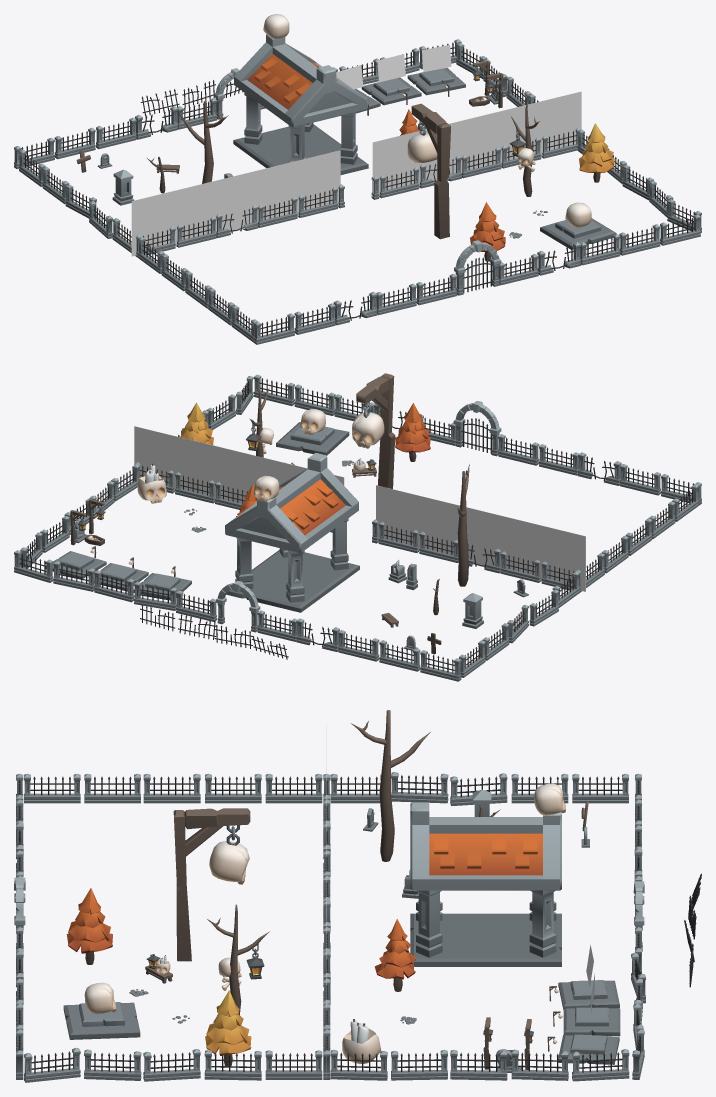
The model's file is yescaCityy.glb.
3 renders of one model, top to bottom at view 1: azimuth 30°, elevation 25°; view 2: azimuth 150°, elevation 25°; view 3: azimuth 270°, elevation 25°, orthographic. The views are drawn at different scales.
Visible parts, largest first — view 1: crypt, HIDE2, HIDE!, post_skull, plaque, tree_pine_yellow_large, tree_dead_large_decorated, plaque.003, plaque.001, tree_pine_orange_large, arch_gate, tree_dead_large (+40 smaller); view 2: crypt, HIDE2, HIDE!, post_skull, plaque, tree_pine_orange_large, tree_dead_large, post_skull_skull, arch_gate, plaque.004, plaque.003, tree_dead_large_decorated (+42 smaller); view 3: crypt, post_skull, plaque, tree_dead_large, tree_pine_orange_large, tree_pine_yellow_large, tree_dead_large_decorated, plaque.001, plaque.004, tree_pine_orange_medium, post_skull_skull, plaque.003 (+24 smaller).
Boxes of the visible parts, left/top/right/bottom form: crypt: left=233, top=34, right=368, bottom=174; HIDE2: left=131, top=150, right=340, bottom=256; HIDE!: left=372, top=91, right=581, bottom=197; post_skull: left=411, top=103, right=450, bottom=239; plaque: left=540, top=218, right=616, bottom=249; tree_pine_yellow_large: left=579, top=123, right=614, bottom=182; tree_dead_large_decorated: left=509, top=102, right=539, bottom=196; plaque.003: left=407, top=67, right=465, bottom=95; plaque.001: left=361, top=77, right=421, bottom=105; tree_pine_orange_large: left=470, top=202, right=505, bottom=261; arch_gate: left=454, top=240, right=501, bottom=295; tree_dead_large: left=178, top=101, right=228, bottom=183; crypt: left=225, top=453, right=359, bottom=612; HIDE2: left=376, top=485, right=585, bottom=591; HIDE!: left=134, top=426, right=344, bottom=503; post_skull: left=356, top=373, right=395, bottom=488; plaque: left=276, top=422, right=349, bottom=455; tree_pine_orange_large: left=395, top=403, right=430, bottom=461; tree_dead_large: left=457, top=464, right=469, bottom=586; post_skull_skull: left=352, top=402, right=384, bottom=448; arch_gate: left=453, top=401, right=501, bottom=456; plaque.004: left=133, top=573, right=191, bottom=599; plaque.003: left=45, top=551, right=106, bottom=578; tree_dead_large_decorated: left=246, top=385, right=273, bottom=457; crypt: left=410, top=802, right=561, bottom=966; post_skull: left=173, top=808, right=250, bottom=961; plaque: left=63, top=1002, right=140, bottom=1039; tree_dead_large: left=351, top=710, right=430, bottom=861; tree_pine_orange_large: left=66, top=888, right=112, bottom=964; tree_pine_yellow_large: left=205, top=990, right=251, bottom=1066; tree_dead_large_decorated: left=207, top=904, right=269, bottom=1014; plaque.001: left=563, top=1007, right=620, bottom=1036; plaque.004: left=558, top=980, right=619, bottom=1009; tree_pine_orange_medium: left=374, top=919, right=415, bottom=991; post_skull_skull: left=209, top=825, right=249, bottom=884; plaque.003: left=558, top=1034, right=619, bottom=1064.
Size of the model in its own units: 152 by 39.22 by 155.
Materials: 93 (93 with a texture image).
